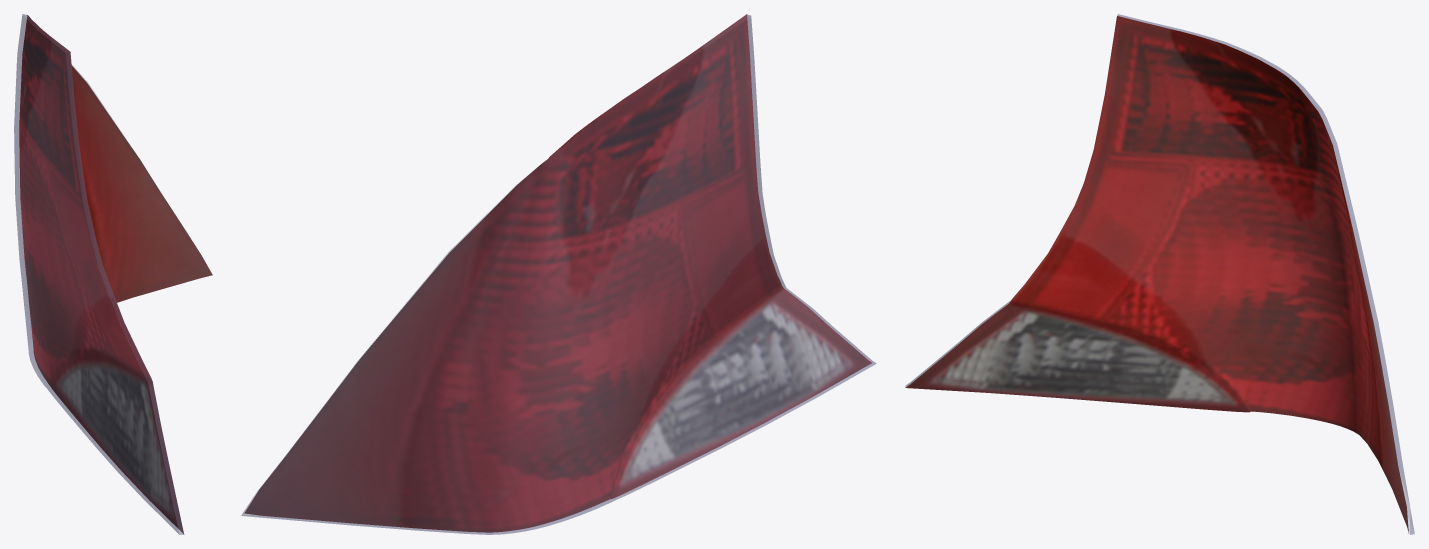
The picture shows the model from 3 angles, left to right: view 1: azimuth 30°, elevation 25°; view 2: azimuth 150°, elevation 25°; view 3: azimuth 270°, elevation 25°; orthographic projection. The views are drawn at different scales.
Parts seen in each view (by area): view 1: P157_541C_L_P157_541C_L_2_N, P157_541C_L_1_DTaSI_P157_541C_L; view 2: P157_541C_L_1_DTaSI_P157_541C_L, P157_541C_L_P157_541C_L_2_N; view 3: P157_541C_L_P157_541C_L_2_N, P157_541C_L_1_DTaSI_P157_541C_L.
Part boxes in pixels (x1=…): P157_541C_L_P157_541C_L_2_N: x1=19, y1=15, x2=212, y2=533; P157_541C_L_1_DTaSI_P157_541C_L: x1=14, y1=14, x2=183, y2=534; P157_541C_L_1_DTaSI_P157_541C_L: x1=241, y1=14, x2=876, y2=534; P157_541C_L_P157_541C_L_2_N: x1=244, y1=14, x2=871, y2=532; P157_541C_L_P157_541C_L_2_N: x1=905, y1=16, x2=1408, y2=533; P157_541C_L_1_DTaSI_P157_541C_L: x1=905, y1=14, x2=1414, y2=534.
Bounding box in the file's own units: 25.35 × 32.8 × 39.56.
